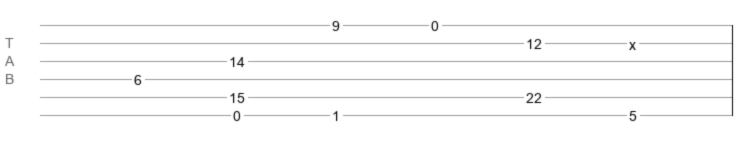0: (233, 108, 241, 118), (431, 18, 439, 28)
1: (332, 108, 340, 118)
12: (526, 36, 542, 46)
14: (229, 54, 245, 64)
15: (229, 90, 245, 100)
22: (526, 90, 542, 100)
5: (629, 108, 637, 118)
6: (134, 72, 142, 82)
9: (332, 18, 340, 28)
x: (629, 37, 636, 45)
